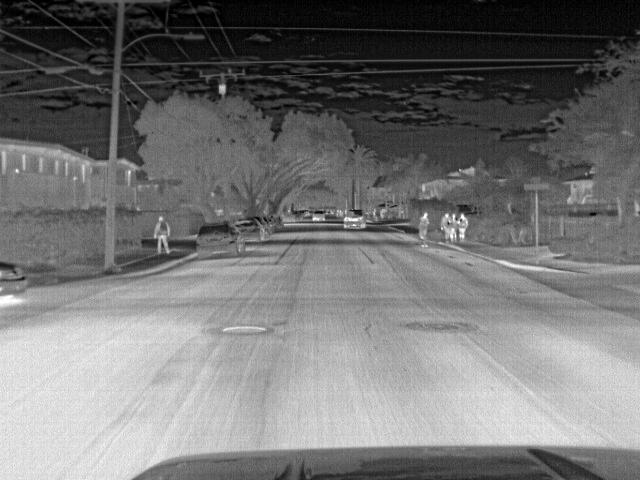car: (195, 221, 245, 258), (1, 259, 29, 299), (237, 218, 268, 243), (340, 208, 366, 229), (311, 207, 328, 224)
person: (152, 215, 173, 254), (416, 210, 431, 243), (455, 211, 470, 240), (444, 213, 459, 241), (437, 211, 451, 232)
